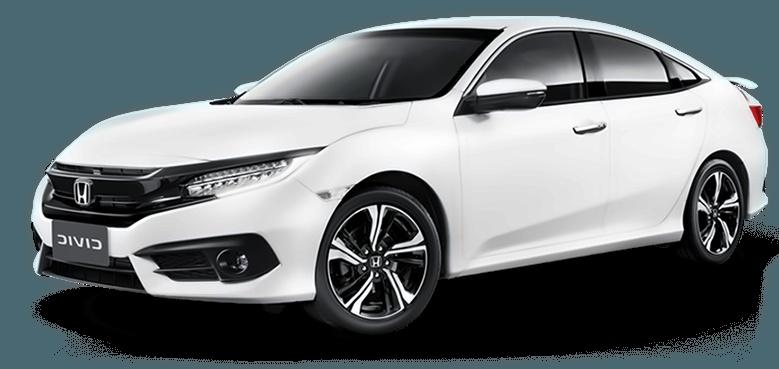Car hood: (43, 96, 418, 174)
Fender - -F-L-: (291, 86, 468, 279)
Fender - -R-L-: (688, 80, 759, 242)
Front bumper: (27, 187, 342, 310)
Headlight - -L-: (173, 140, 331, 203)
Passenger-s door - -F-L-: (455, 13, 608, 266)
Passenger-s door - -R-L-: (608, 13, 715, 242)
Rear bumper: (741, 156, 779, 225)
Rear light - -L-: (732, 79, 769, 132)
Side bumper - -L-: (439, 218, 702, 287)
Side mirror - -L-: (458, 75, 552, 117)
Side mirror - -R-: (227, 76, 269, 100)
